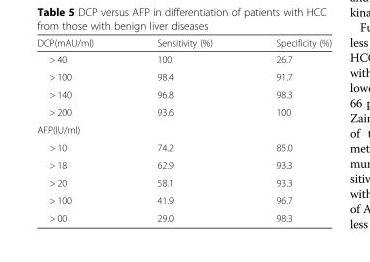table: (36, 36, 331, 223)
table column: (124, 36, 243, 223), (36, 36, 124, 223), (243, 36, 331, 223)
table column header: (36, 36, 331, 50)
table projected row header: (36, 120, 331, 138)
table row: (36, 67, 331, 85), (36, 102, 331, 120), (36, 120, 331, 138), (36, 155, 331, 173), (36, 173, 331, 191), (36, 50, 331, 67), (36, 85, 331, 102), (36, 138, 331, 155), (36, 191, 331, 208), (36, 208, 331, 223), (36, 36, 331, 50)
